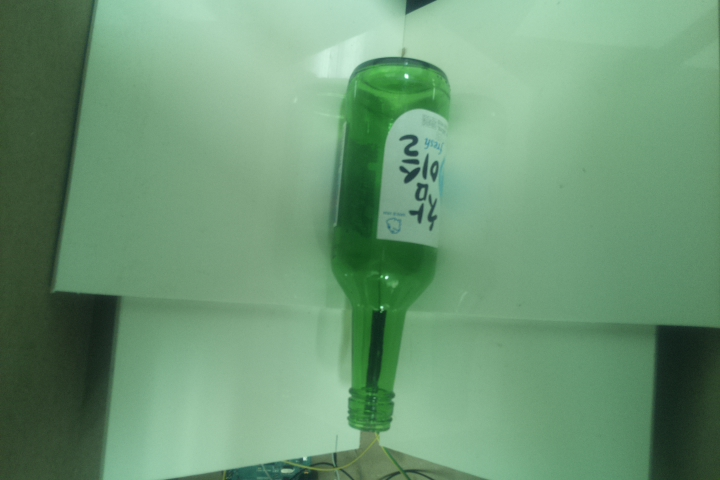soju: (329, 56, 454, 434)
